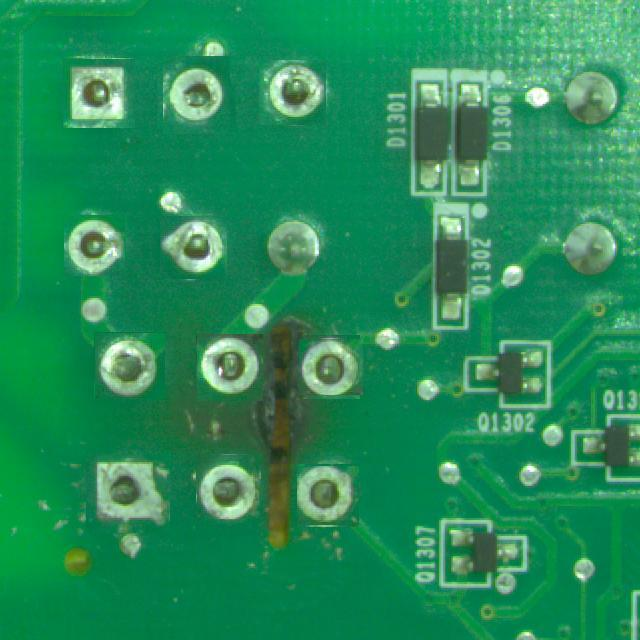lack_of_part: (86, 454, 170, 533), (160, 58, 233, 131), (62, 58, 135, 128), (94, 332, 165, 399), (196, 334, 263, 401), (260, 59, 326, 126), (161, 215, 226, 281), (196, 454, 261, 519), (64, 215, 126, 276), (297, 465, 358, 526), (301, 337, 362, 397)
